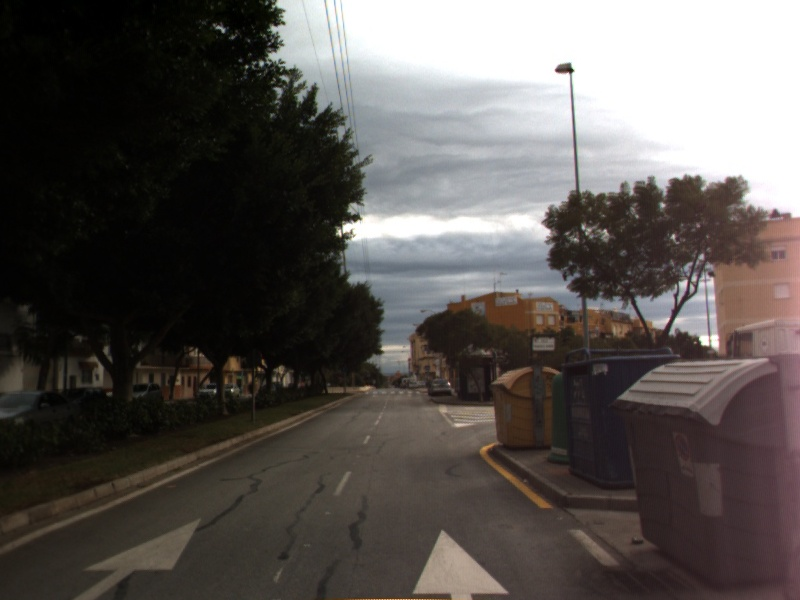STRAIGHT: (64, 515, 204, 600), (407, 525, 514, 600)
